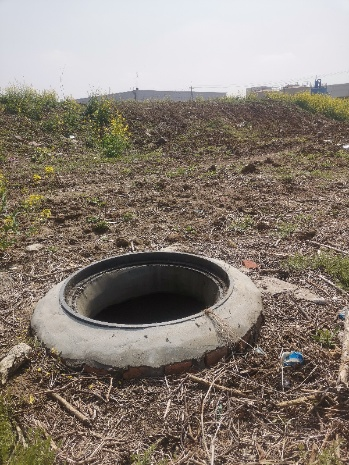lose: (60, 250, 235, 329)
